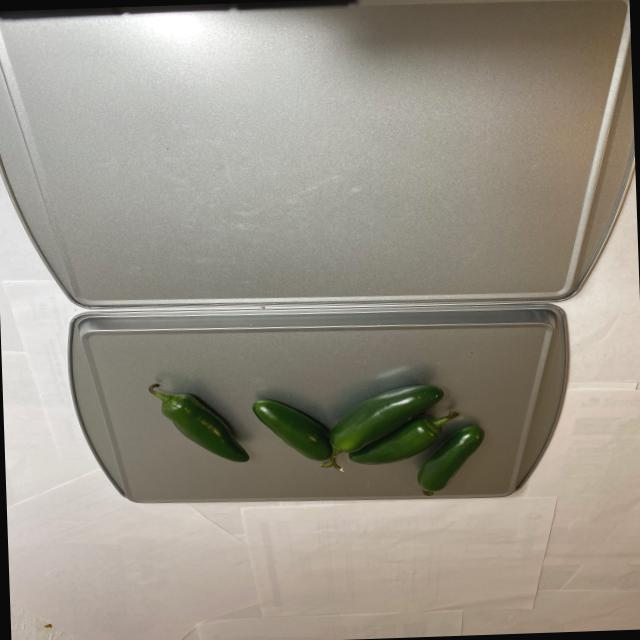chilli: (146, 356, 493, 508)
